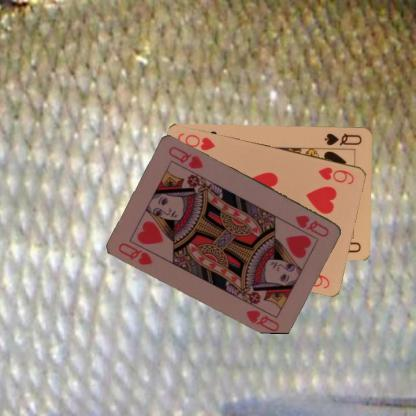6h: (316, 164, 356, 186)
Qh: (292, 212, 330, 238), (116, 240, 154, 266)
Qs: (322, 130, 363, 147)
